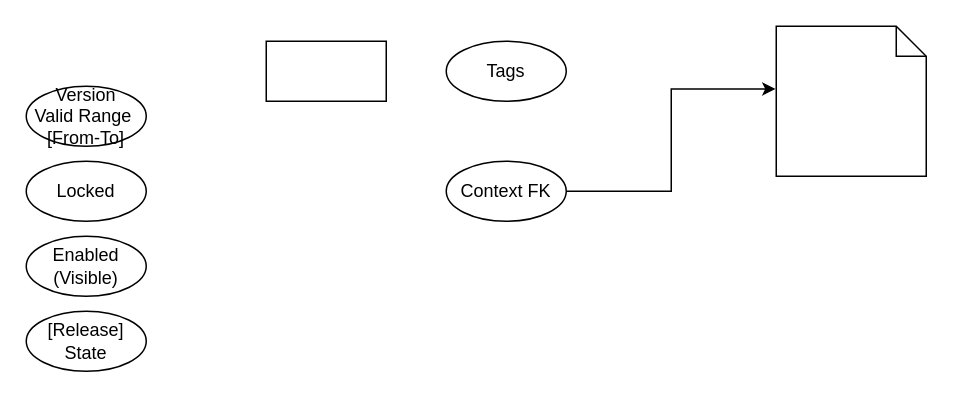
This 953x398 diagram has some shape labels left out. The shapes that lost their labels are listed below. From the top down, each one's centre as x and y in pixels, then its label:
At point (325, 70): "Record".
At point (850, 100): "FK to what it is describing (see SketchUp)".
